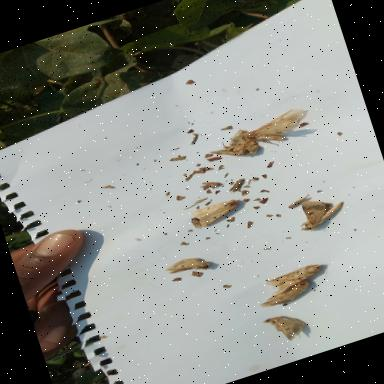abw: (240, 106, 308, 150), (264, 256, 331, 294), (258, 306, 311, 352), (292, 190, 350, 231), (258, 277, 317, 312), (190, 193, 242, 231), (214, 125, 262, 164), (168, 248, 216, 280)
pbw: (226, 174, 250, 192), (184, 214, 207, 230), (202, 176, 222, 190)
